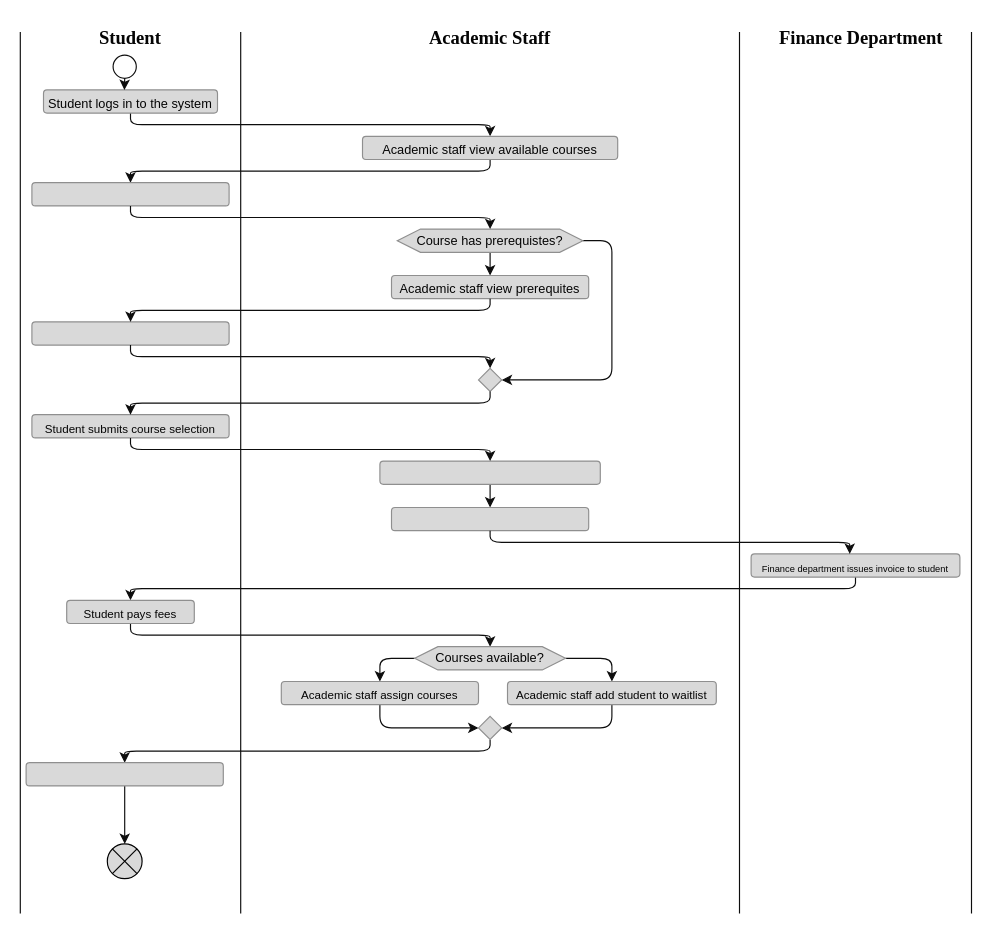
Some shapes in this 993 by 935 pixel diagram are drawn without their labels. Each missing label, with the box of its shape:
Academic staff approves course selection: (379, 460, 600, 484)
Academic staff generate fee invoice: (390, 506, 589, 531)
Student selects courses of interest: (31, 182, 229, 206)
Student selects prerequiste courses: (31, 321, 229, 345)
Student views class schedule: (25, 762, 223, 786)
